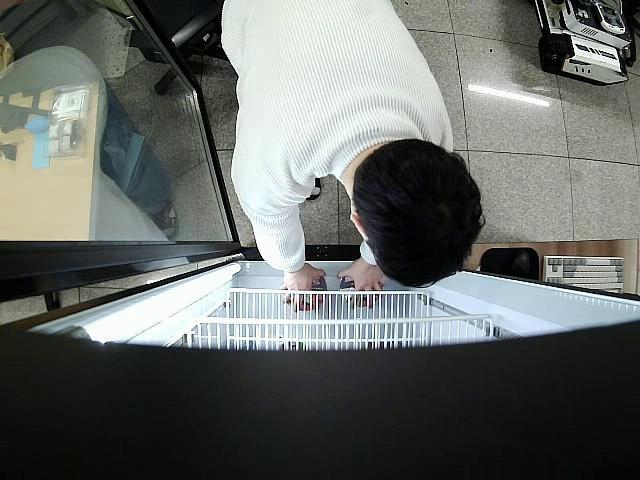07_buldak_L: (341, 275, 384, 308), (288, 277, 330, 308)
